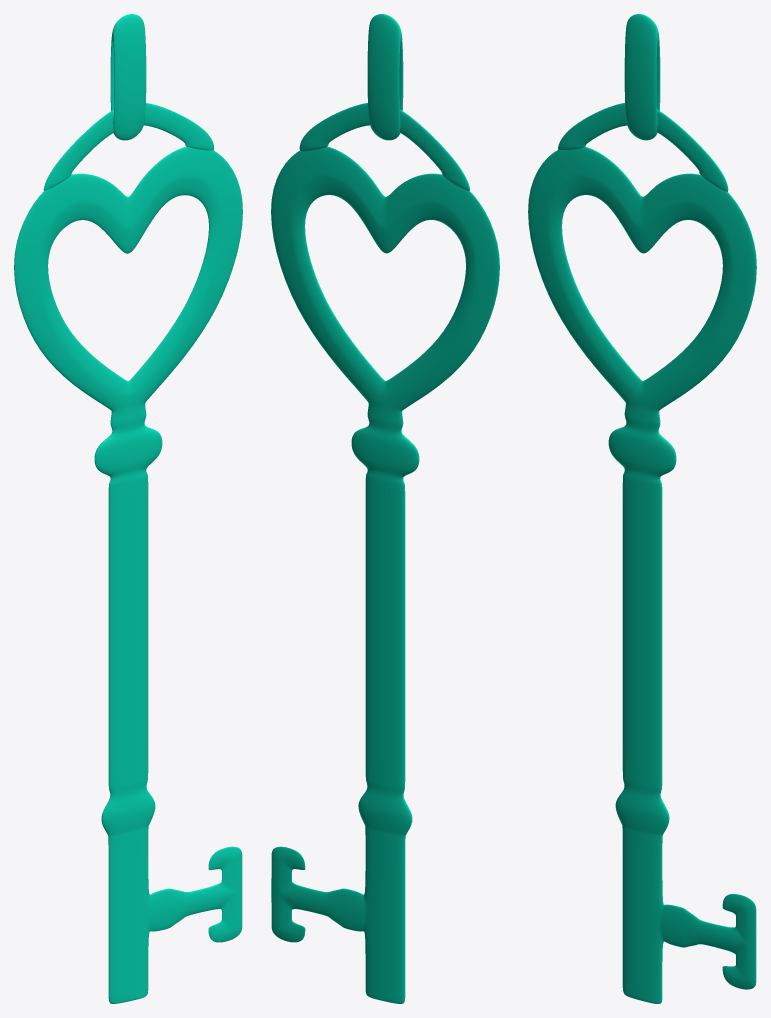
File: Cle plate.fbx
The picture shows the model from 3 angles, left to right: view 1: azimuth 30°, elevation 25°; view 2: azimuth 150°, elevation 25°; view 3: azimuth 330°, elevation 25°; orthographic projection.
Visible parts, largest first — view 1: 18931_Heart_Key_new; view 2: 18931_Heart_Key_new; view 3: 18931_Heart_Key_new.
Part boxes in pixels (x1,y1,x2,y2): 18931_Heart_Key_new: [14, 14, 242, 1003]; 18931_Heart_Key_new: [271, 14, 499, 1003]; 18931_Heart_Key_new: [528, 14, 756, 1003].
Bounding box in the file's own units: 18 × 74.13 × 0.8667.
